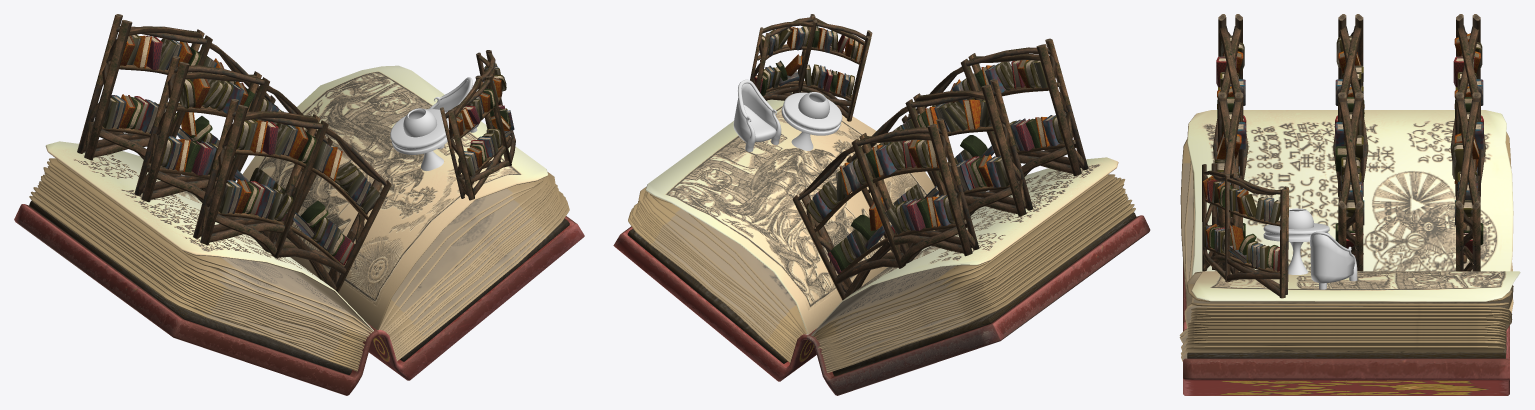
File: BookScene.fbx
3 views of the same model, side by side, from view 1: azimuth 30°, elevation 25°; view 2: azimuth 150°, elevation 25°; view 3: azimuth 270°, elevation 25° (orthographic). The views are drawn at different scales.
Parts seen in each view (by area): view 1: Cube.001, Cube.004, Cube.003, Cube.002, Cube.005, Sphere.002, Cube.006; view 2: Cube.001, Cube.003, Cube.004, Cube.002, Cube.005, Sphere.002, Cube.006; view 3: Cube.001, Cube.005, Cube.003, Cube.002, Cube.004, Cube.006, Sphere.002.
Part boxes in pixels (x1,y1,x2,y2): Cube.001: [14, 65, 584, 395]; Cube.004: [193, 99, 391, 292]; Cube.003: [77, 14, 275, 191]; Cube.002: [134, 56, 332, 241]; Cube.005: [440, 50, 515, 200]; Sphere.002: [390, 108, 449, 170]; Cube.006: [429, 77, 478, 148]; Cube.001: [613, 91, 1150, 395]; Cube.003: [792, 118, 979, 300]; Cube.004: [901, 38, 1088, 205]; Cube.002: [846, 79, 1033, 252]; Cube.005: [750, 14, 872, 121]; Sphere.002: [781, 92, 842, 150]; Cube.006: [733, 79, 781, 151]; Cube.001: [1179, 110, 1520, 395]; Cube.005: [1202, 163, 1288, 298]; Cube.003: [1450, 14, 1485, 271]; Cube.002: [1333, 14, 1368, 271]; Cube.004: [1213, 14, 1248, 271]; Cube.006: [1310, 231, 1357, 289]; Sphere.002: [1263, 208, 1329, 274].
Bounding box in the file's own units: 443 × 307 × 311.
